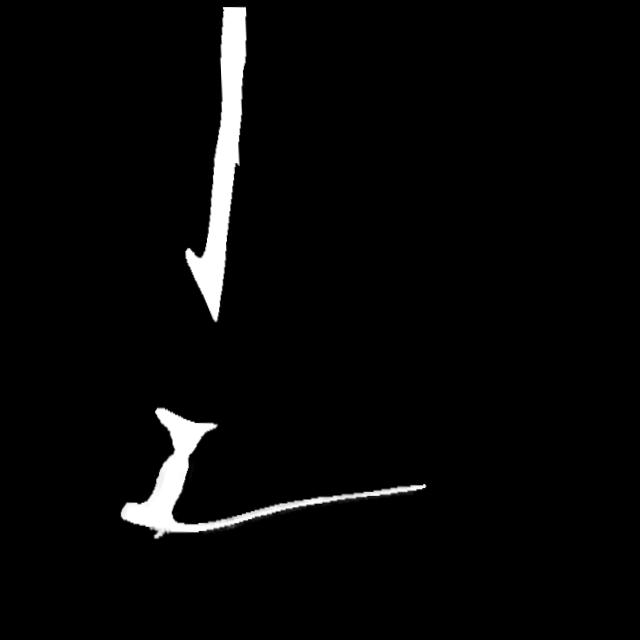sup_pli: (145, 519, 163, 545)
